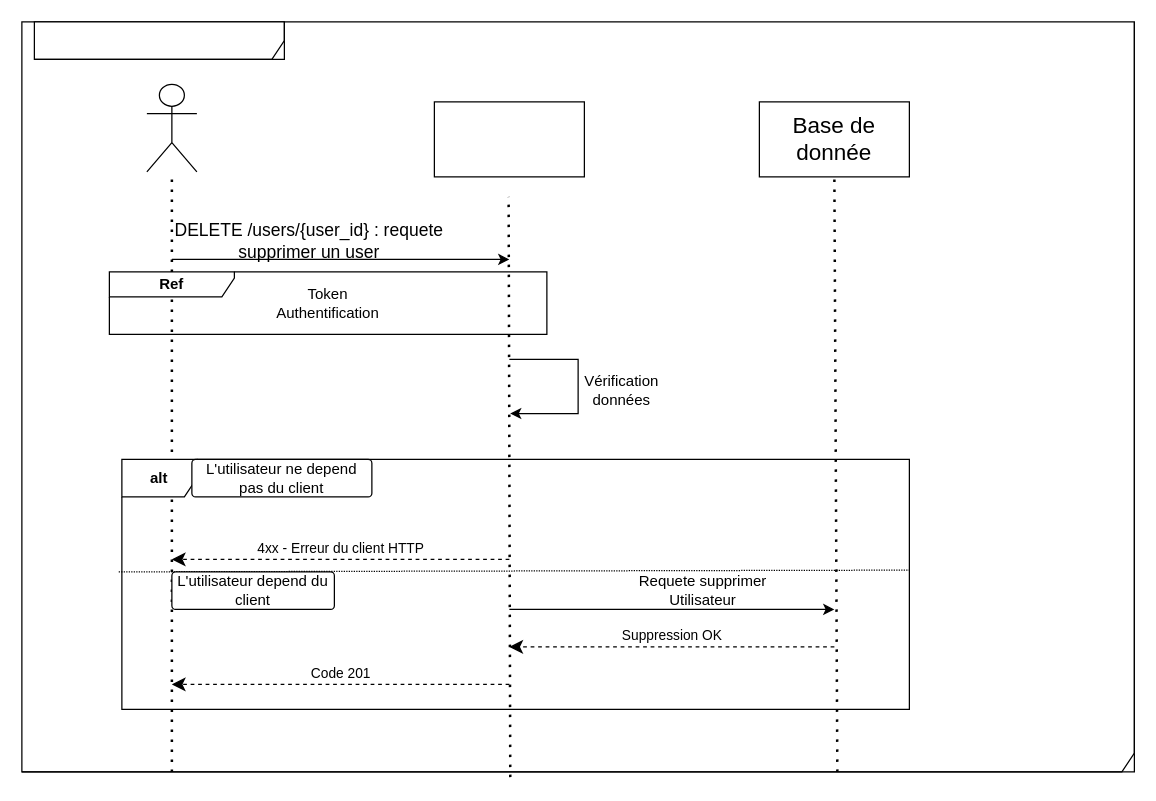
Image size: 1156x801. Some labels were removed from this diagram. Here are the shapes that lost their labels. From the top down, the centre of each, then its label:
At (158,40): "Séquence Supprimer User".
At (171,127): "Client".
At (508,139): "API".
